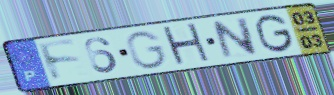6: (83, 37, 120, 75)
F: (35, 38, 84, 84)
G: (124, 29, 170, 70), (254, 12, 297, 54)
H: (159, 21, 215, 69)
N: (210, 15, 261, 62)
